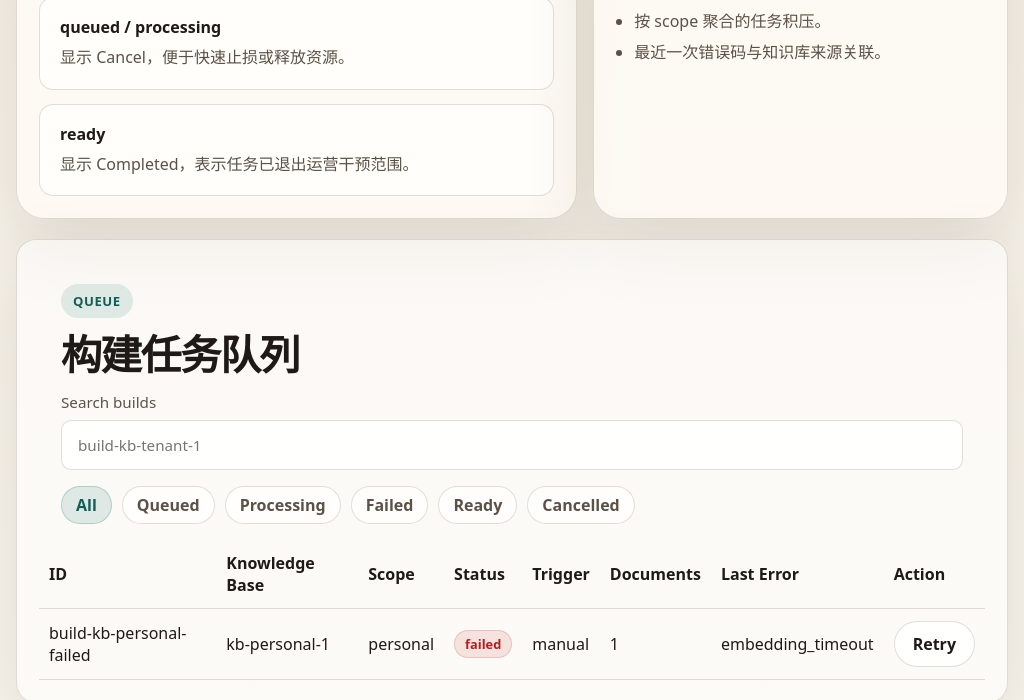
Test: shows action error when build retry fails
This screenshot has width=1024, height=700.
(page scrolled)
Click the button "Retry": (934, 644) 894,621 -> 975,667
(page scrolled)
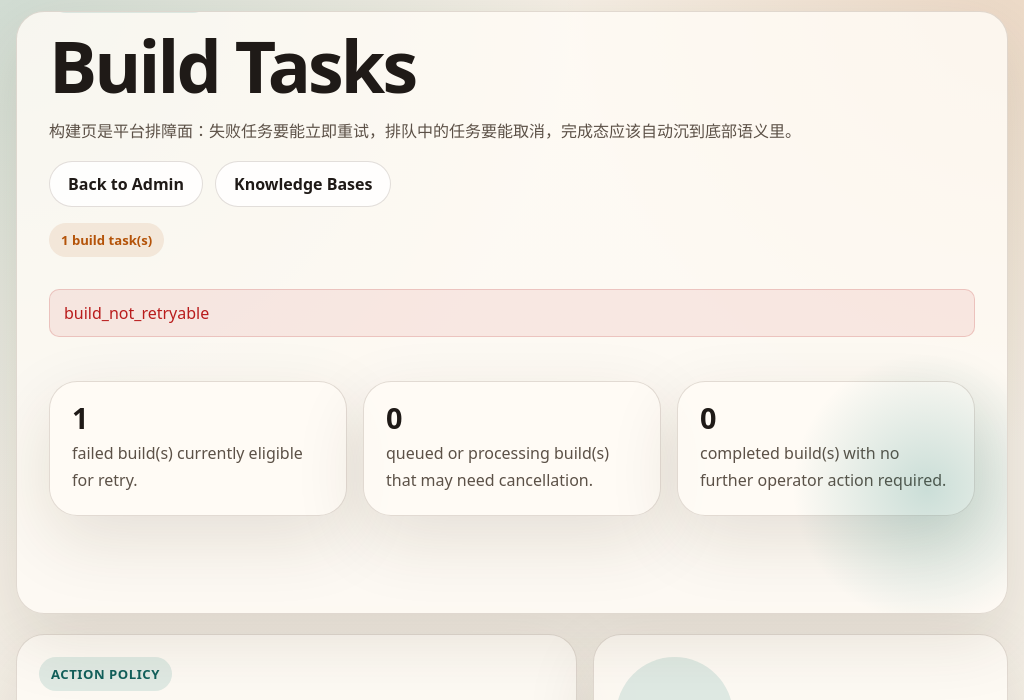
Result: the message reads "build_not_retryable" at 64,302 -> 209,324
